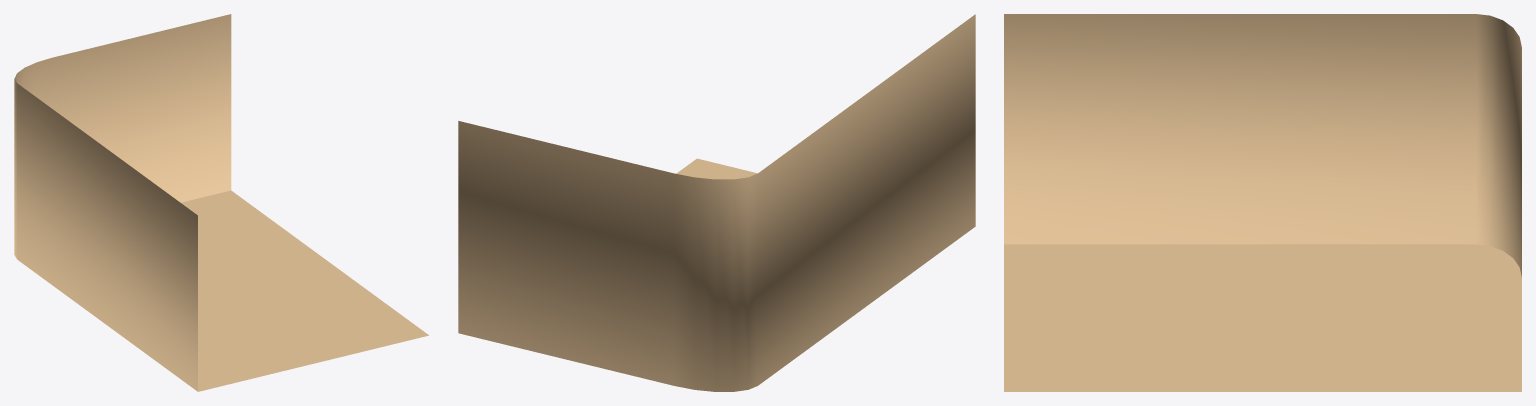
Rendered from walls-transformed.glb.
3 views of the same model, side by side, from view 1: azimuth 30°, elevation 25°; view 2: azimuth 150°, elevation 25°; view 3: azimuth 270°, elevation 25° (orthographic). The views are drawn at different scales.
Parts seen in each view (by area): view 1: walls; view 2: walls; view 3: walls.
Boxes of the visible parts, bbox=[...] form: walls: bbox=[14, 14, 428, 391]; walls: bbox=[458, 14, 975, 391]; walls: bbox=[1004, 14, 1521, 391].
Bounding box in the file's own units: 55.9 × 40.72 × 82.93.
